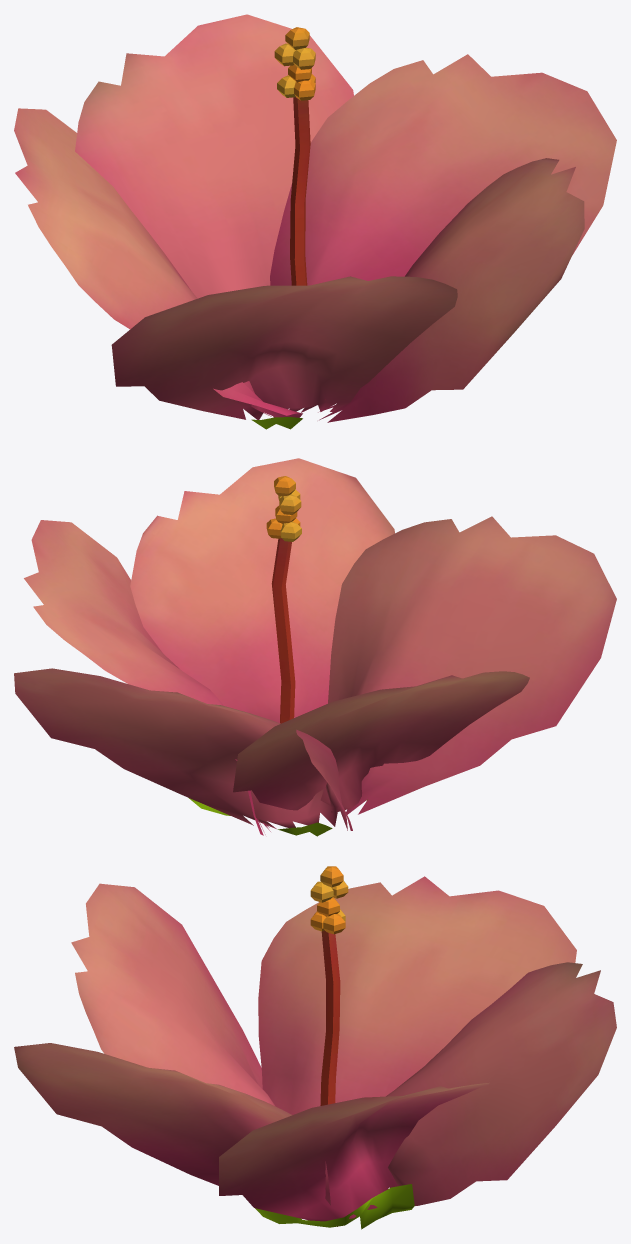
3 views of the same model, one above another, from view 1: azimuth 30°, elevation 25°; view 2: azimuth 150°, elevation 25°; view 3: azimuth 270°, elevation 25° (orthographic). The views are drawn at different scales.
Visible parts, largest first — view 1: a130c463; view 2: a130c463; view 3: a130c463.
Part boxes in pixels (left/top/right/bottom): a130c463: left=14, top=14, right=616, bottom=429; a130c463: left=14, top=458, right=616, bottom=836; a130c463: left=14, top=866, right=616, bottom=1229.
Size of the model in its own units: 0.1468 by 0.0954 by 0.1509.
2 materials, 1 textured.
